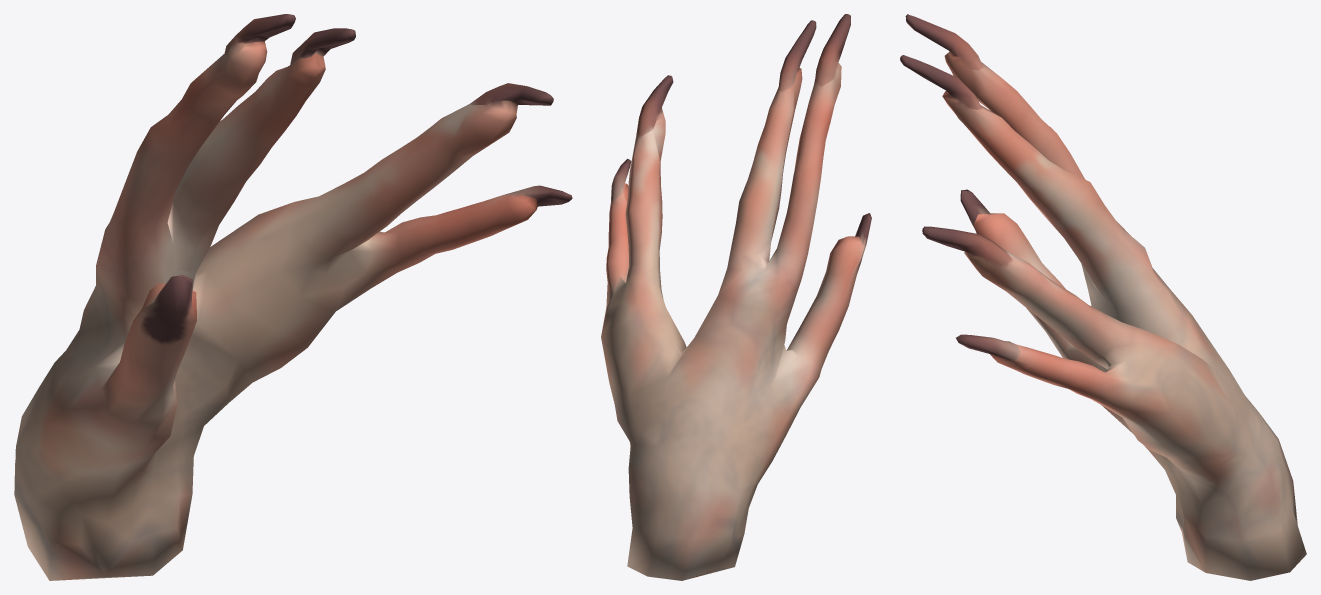
File: HandL (1).fbx
3 renders of one model, left to right at view 1: azimuth 30°, elevation 25°; view 2: azimuth 150°, elevation 25°; view 3: azimuth 270°, elevation 25°, orthographic. The views are drawn at different scales.
Parts seen in each view (by area): view 1: UmeriCraci_low.001; view 2: UmeriCraci_low.001; view 3: UmeriCraci_low.001.
Part boxes in pixels (x1,y1,x2,y2): UmeriCraci_low.001: [14, 14, 572, 580]; UmeriCraci_low.001: [601, 14, 871, 580]; UmeriCraci_low.001: [900, 14, 1306, 580].
Bounding box in the file's own units: 35.57 × 30.13 × 51.07.
